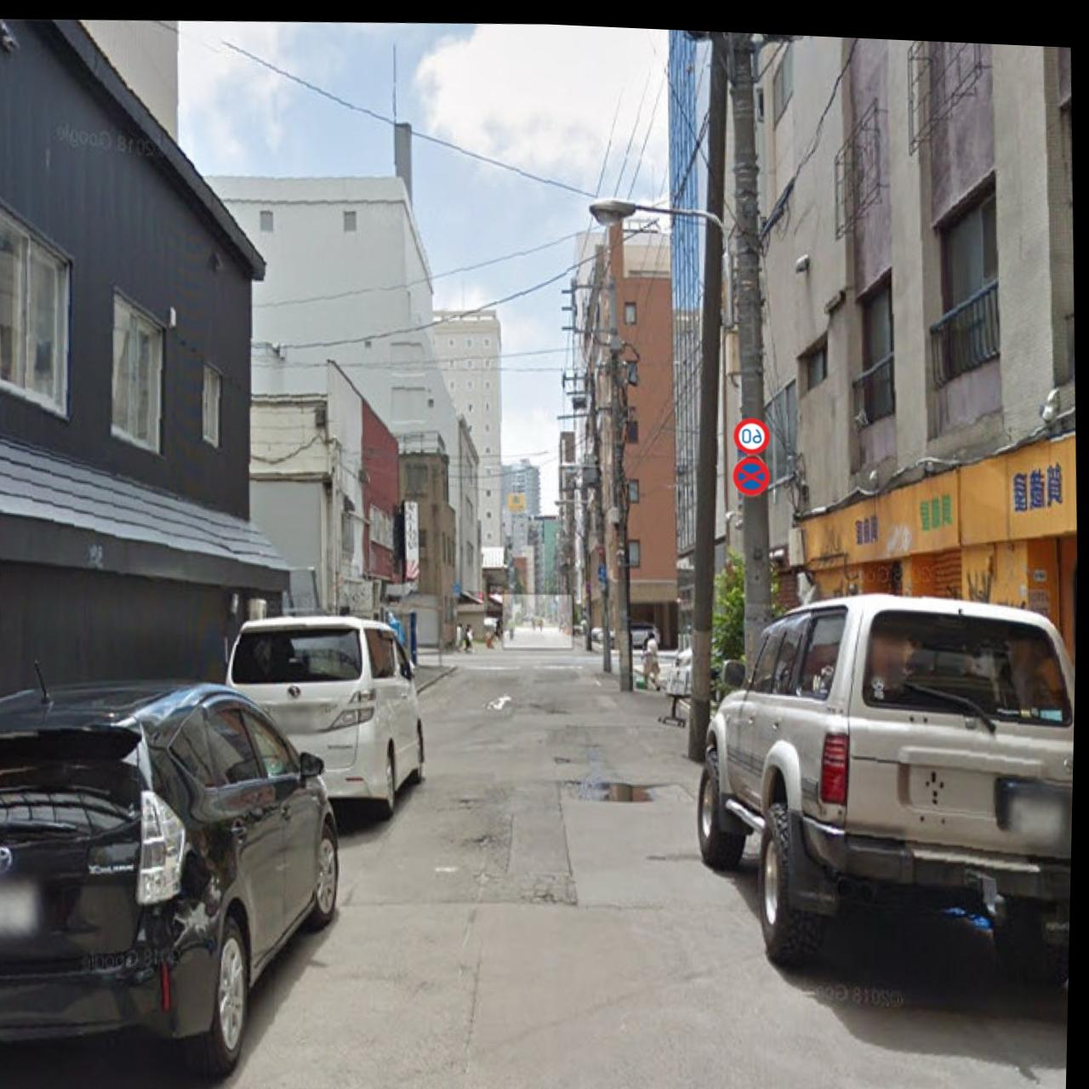stop_sign: (731, 455, 771, 496)
